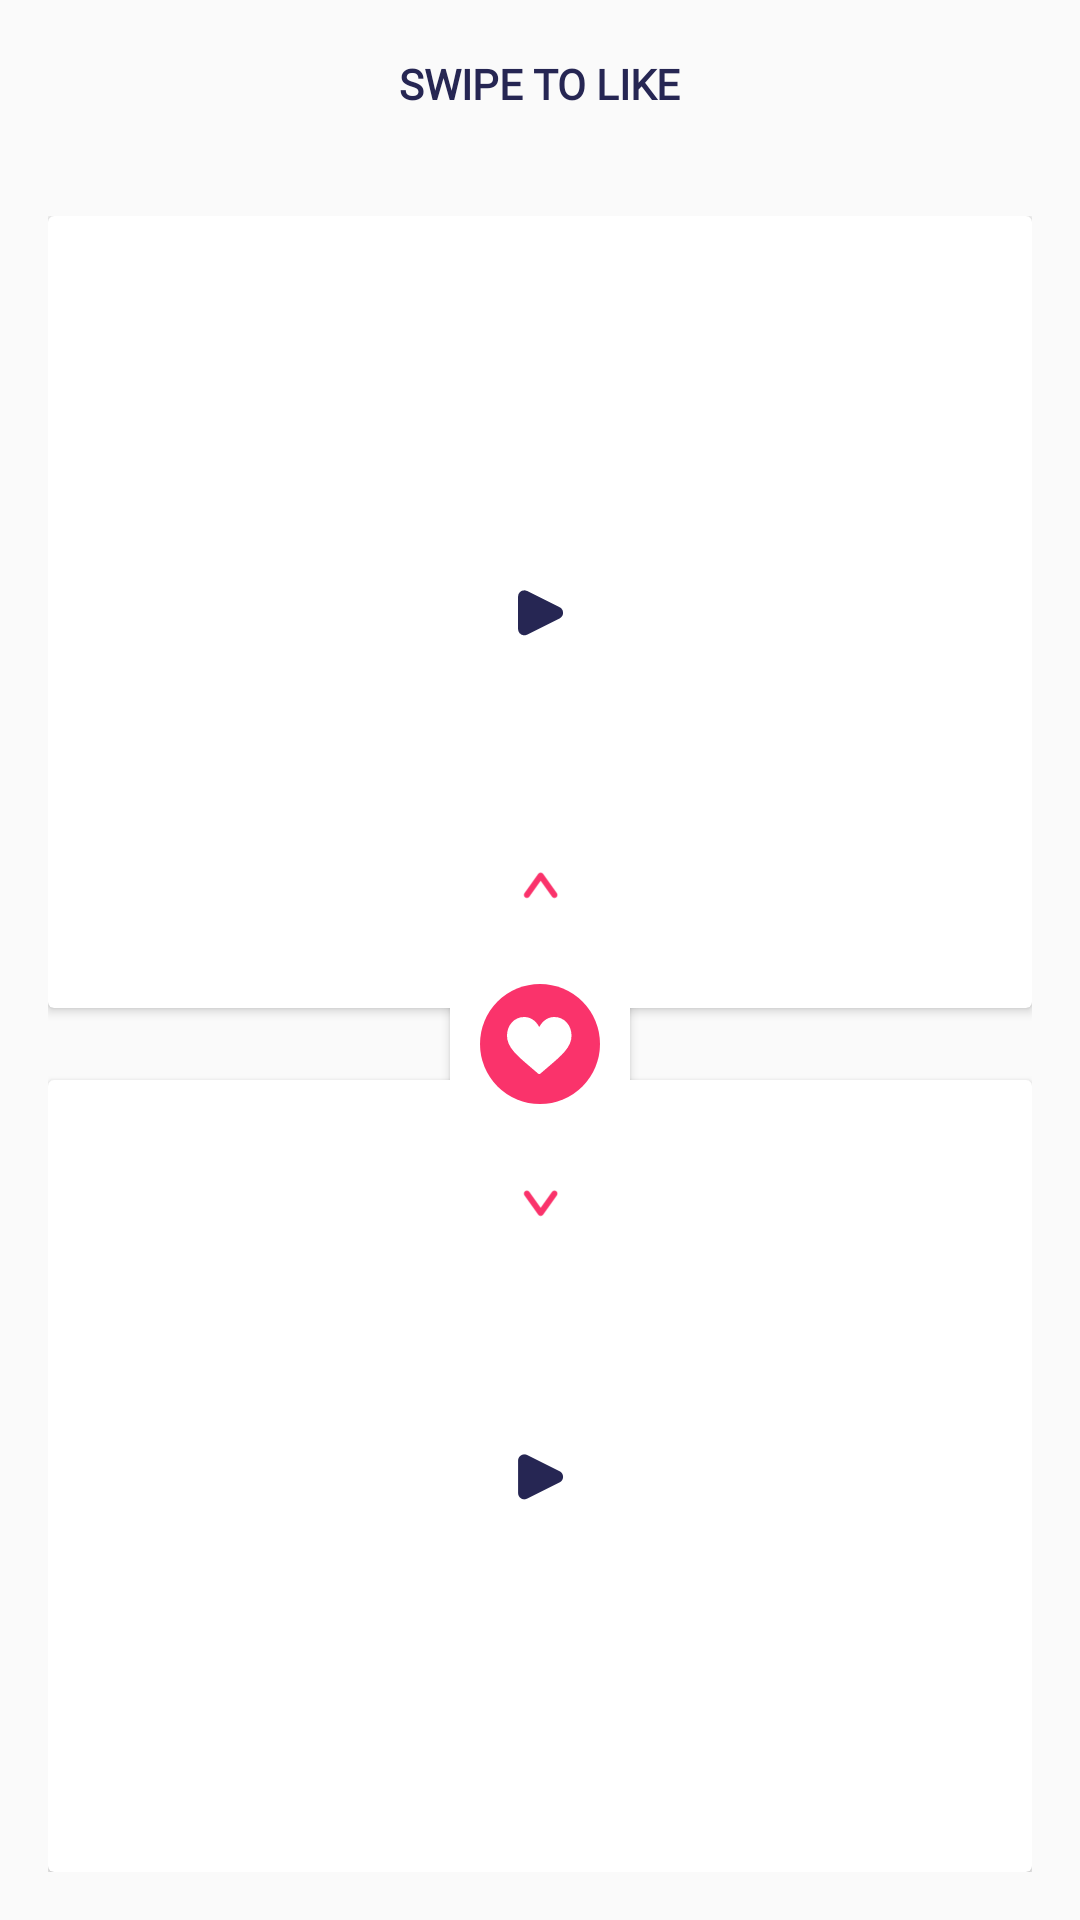

Locate icon controls on the screen. Image size 1080px x 1920px, boxes as box=[x1, y1, x2, y2].
down arrow: box=[523, 1190, 558, 1217]
like: box=[480, 984, 600, 1104]
play compare: box=[518, 590, 563, 636], box=[518, 1454, 563, 1500]
up arrow: box=[523, 872, 558, 899]
